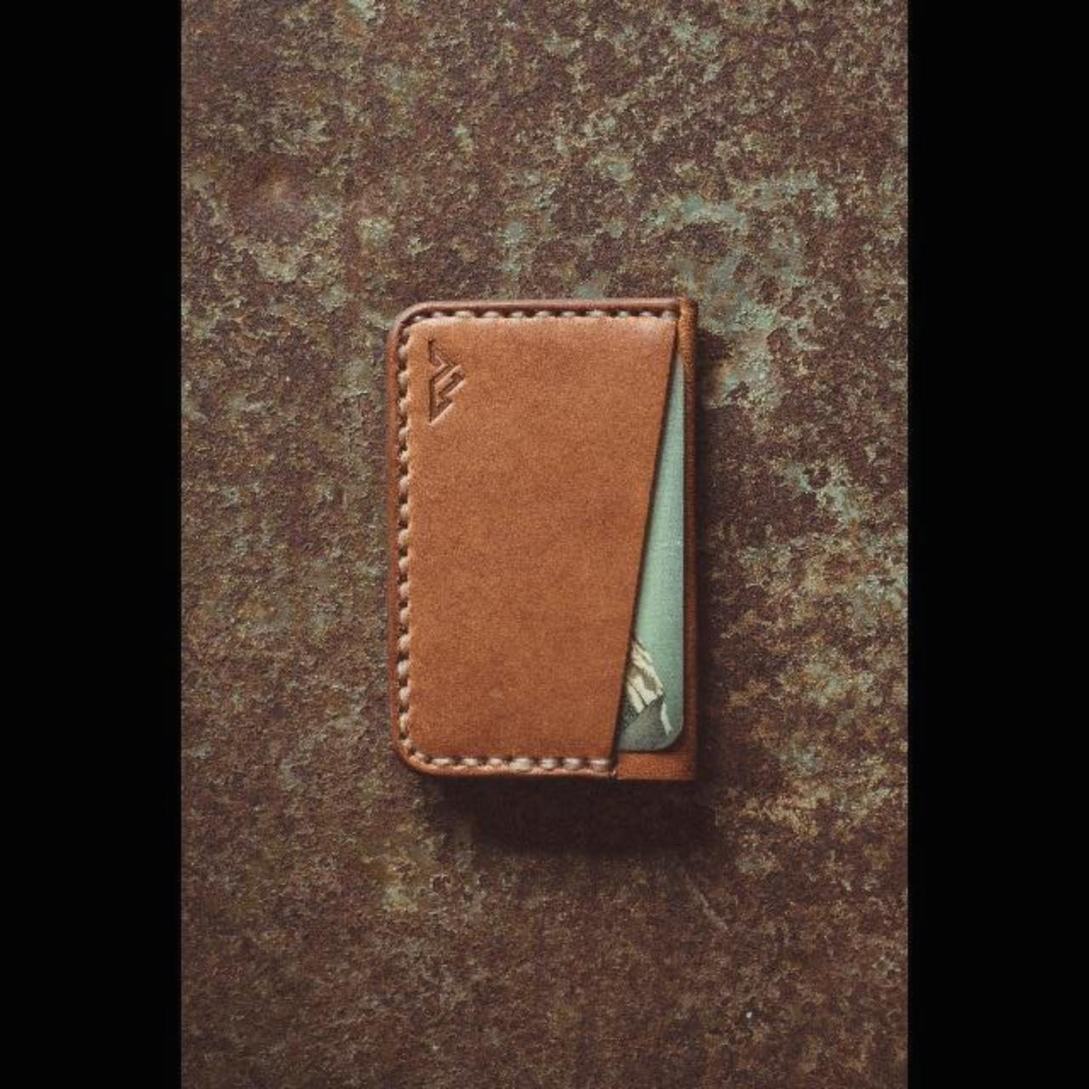wallet: (351, 266, 713, 824)
